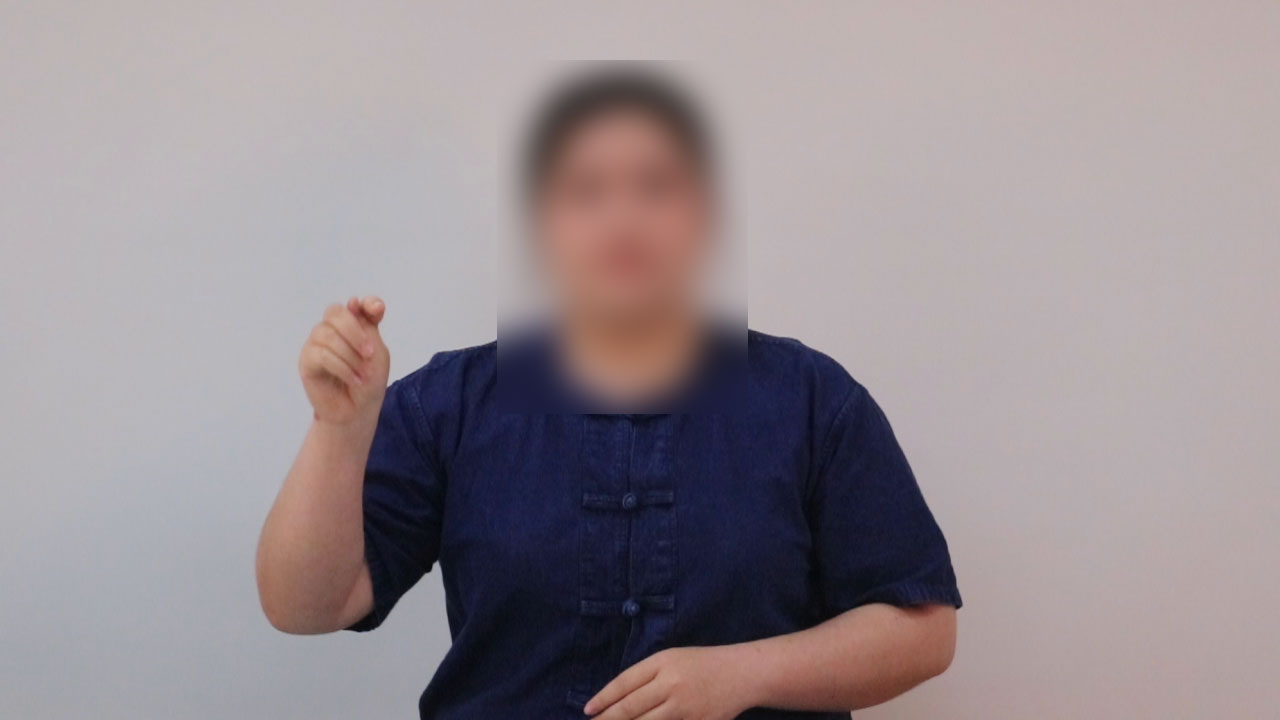tor: (281, 281, 423, 437)
